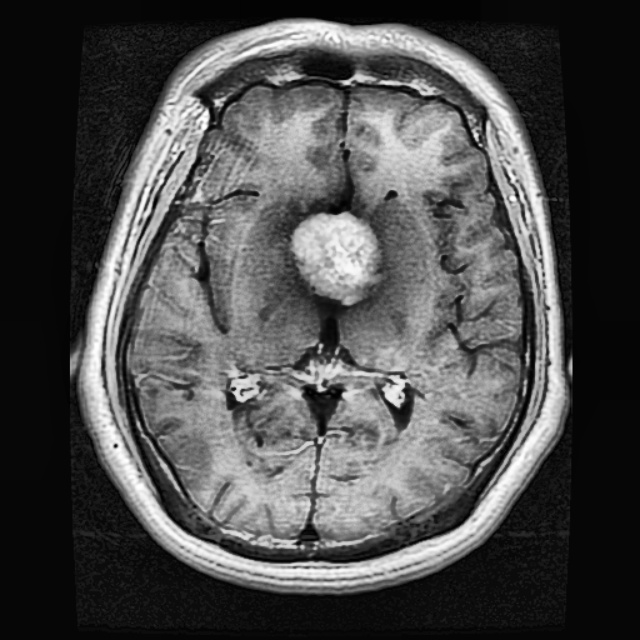Pituitary: (295, 212, 379, 300)
